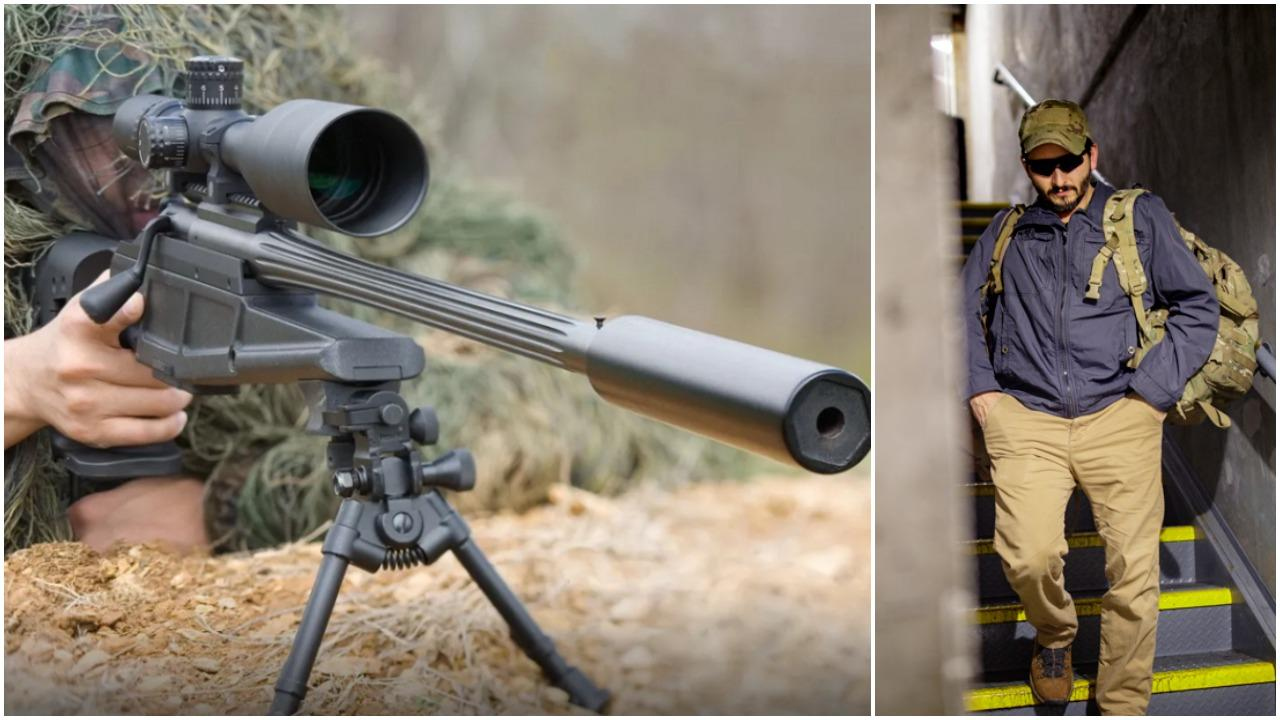knife: (32, 51, 867, 714)
